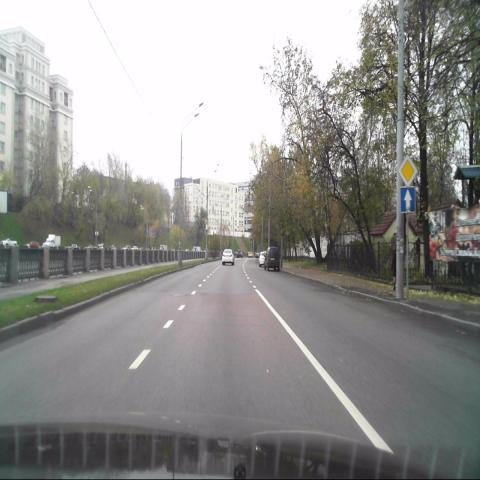5_5: (401, 188, 415, 213)
